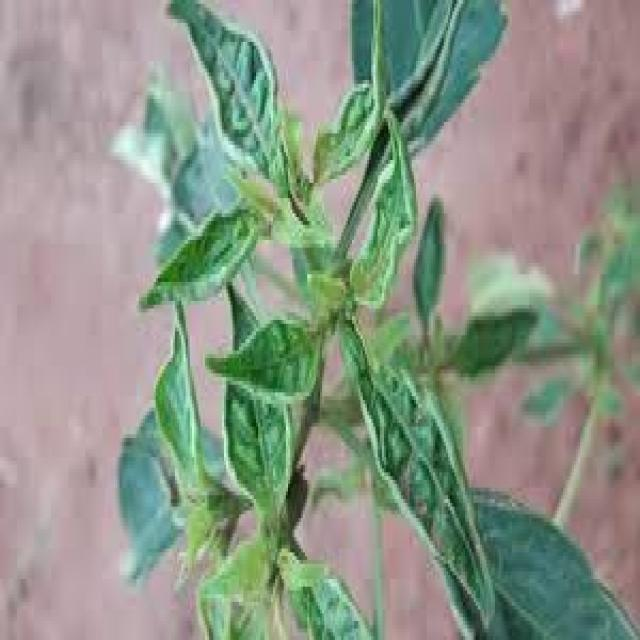Nutirtion_deficie: (327, 329, 495, 640), (216, 361, 355, 640), (191, 8, 312, 210), (323, 117, 424, 335), (130, 296, 216, 547), (166, 176, 261, 325)
